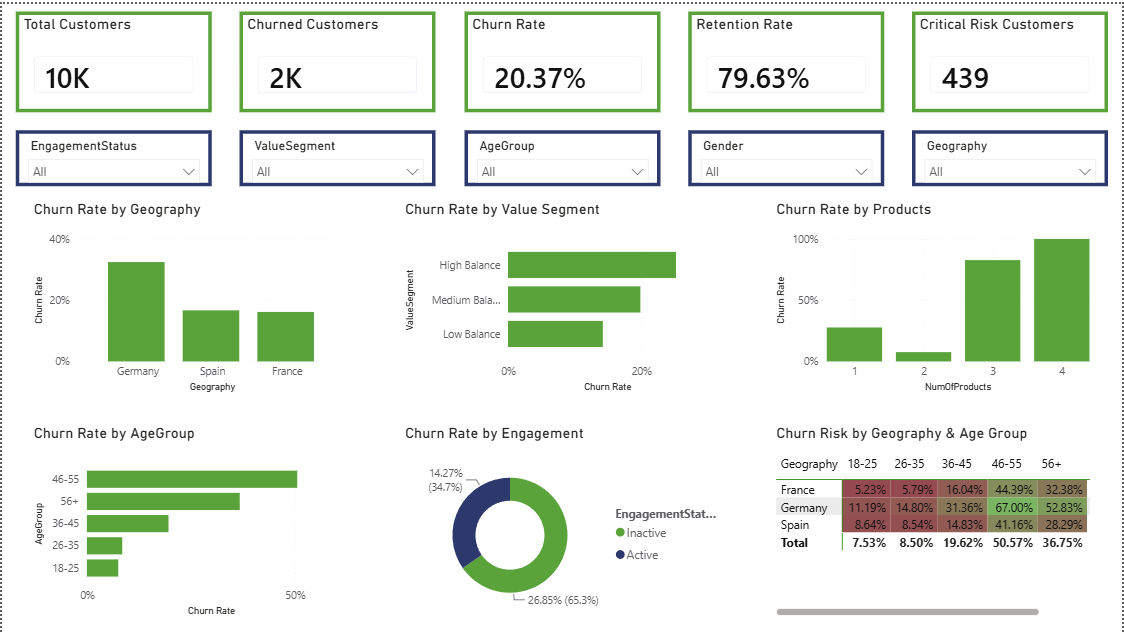

The dashboard page shown, as its layout file describes it:
{"tool":"powerbi","page":{"name":"Customer Churn Overview","canvas":[1280,720],"ordinal":1},"visuals":[{"type":"cardVisual","title":"Total Customers","fields":{"Data":["customer_churn_cleaned.Total Customers"]},"box":[16,8,224,115],"z":0},{"type":"cardVisual","title":"Churn Rate","fields":{"Data":["customer_churn_cleaned.Churn Rate"]},"box":[528,8,224,115],"z":1000},{"type":"cardVisual","title":"Churned Customers","fields":{"Data":["customer_churn_cleaned.Churned Customers"]},"box":[272,8,224,115],"z":2000},{"type":"cardVisual","title":"Critical Risk Customers","fields":{"Data":["customer_churn_cleaned.High Critical Risk Customers"]},"box":[1040,8,224,115],"z":3000},{"type":"cardVisual","title":"Retention Rate","fields":{"Data":["customer_churn_cleaned.Retention Rate"]},"box":[784,8,224,115],"z":4000},{"type":"clusteredColumnChart","fields":{"Category":["customer_churn_cleaned.Geography"],"Y":["customer_churn_cleaned.Churn Rate"]},"box":[32,224,368,224],"z":5000},{"type":"clusteredBarChart","fields":{"Category":["customer_churn_cleaned.AgeGroup"],"Y":["customer_churn_cleaned.Churn Rate"]},"box":[32,480,368,224],"z":6000},{"type":"donutChart","title":"Churn Rate by Engagement","fields":{"Category":["customer_churn_cleaned.EngagementStatus"],"Y":["customer_churn_cleaned.Churn Rate"]},"box":[456,480,368,224],"z":7000},{"type":"clusteredColumnChart","title":"Churn Rate by Products","fields":{"Y":["customer_churn_cleaned.Churn Rate"],"Category":["customer_churn_cleaned.NumOfProducts"]},"box":[880,224,368,224],"z":8000},{"type":"clusteredBarChart","title":"Churn Rate by Value Segment","fields":{"Category":["customer_churn_cleaned.ValueSegment"],"Y":["customer_churn_cleaned.Churn Rate"]},"box":[456,224,368,224],"z":9000},{"type":"pivotTable","title":"Churn Risk by Geography & Age Group","fields":{"Rows":["customer_churn_cleaned.Geography"],"Columns":["customer_churn_cleaned.AgeGroup"],"Values":["customer_churn_cleaned.Churn Rate"]},"box":[880,480,368,224],"z":10000},{"type":"slicer","fields":{"Values":["customer_churn_cleaned.Geography"]},"box":[1040,144,224,64],"z":12000},{"type":"slicer","fields":{"Values":["customer_churn_cleaned.AgeGroup"]},"box":[528,144,224,64],"z":13000},{"type":"slicer","fields":{"Values":["customer_churn_cleaned.Gender"]},"box":[784,144,224,64],"z":14000},{"type":"slicer","fields":{"Values":["customer_churn_cleaned.EngagementStatus"]},"box":[16,144,224,64],"z":15000},{"type":"slicer","fields":{"Values":["customer_churn_cleaned.ValueSegment"]},"box":[272,144,224,64],"z":16000}]}

Visuals, with their boxes in screenshot pixels (x1, y1, x2, y2), scaled from the page's 1280x720 canvas onto the 1124x634 screenshot:
"Total Customers" cardVisual: detection(14, 7, 211, 108)
"Churn Rate" cardVisual: detection(464, 7, 660, 108)
"Churned Customers" cardVisual: detection(239, 7, 436, 108)
"Critical Risk Customers" cardVisual: detection(913, 7, 1110, 108)
"Retention Rate" cardVisual: detection(688, 7, 885, 108)
clusteredColumnChart - customer_churn_cleaned.Geography x customer_churn_cleaned.Churn Rate: detection(28, 197, 351, 394)
clusteredBarChart - customer_churn_cleaned.AgeGroup x customer_churn_cleaned.Churn Rate: detection(28, 423, 351, 620)
"Churn Rate by Engagement" donutChart: detection(400, 423, 724, 620)
"Churn Rate by Products" clusteredColumnChart: detection(773, 197, 1096, 394)
"Churn Rate by Value Segment" clusteredBarChart: detection(400, 197, 724, 394)
"Churn Risk by Geography & Age Group" pivotTable: detection(773, 423, 1096, 620)
slicer - customer_churn_cleaned.Geography: detection(913, 127, 1110, 183)
slicer - customer_churn_cleaned.AgeGroup: detection(464, 127, 660, 183)
slicer - customer_churn_cleaned.Gender: detection(688, 127, 885, 183)
slicer - customer_churn_cleaned.EngagementStatus: detection(14, 127, 211, 183)
slicer - customer_churn_cleaned.ValueSegment: detection(239, 127, 436, 183)
